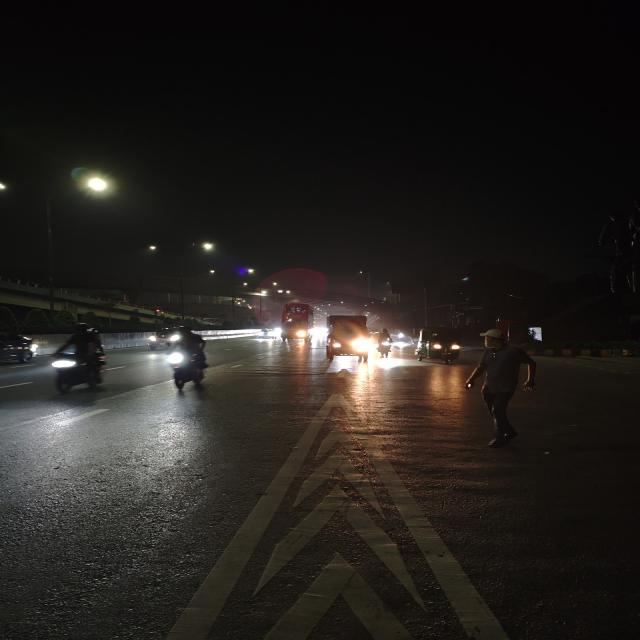bus: (278, 302, 317, 344)
car: (0, 330, 39, 368)
cng: (414, 327, 466, 366)
motorcycle: (43, 322, 114, 398), (157, 327, 220, 397), (375, 330, 395, 360)
pedestrian: (464, 325, 549, 448)
truck: (319, 312, 373, 364)
